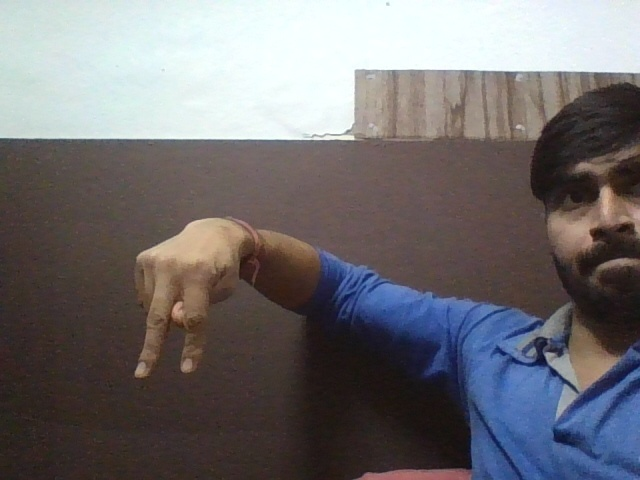P: (119, 218, 260, 387)
